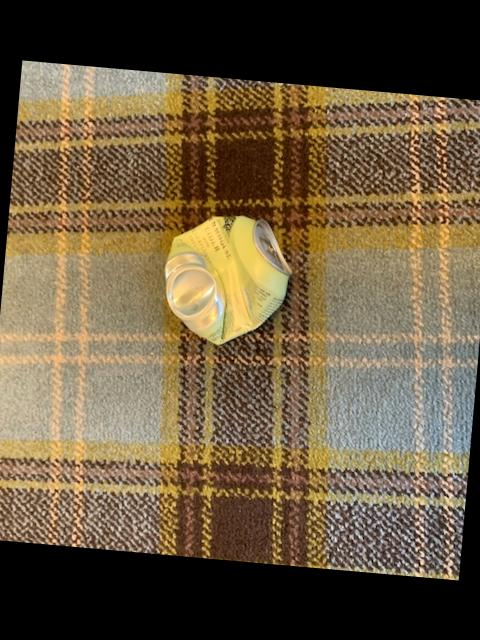metal: (165, 214, 291, 342)
